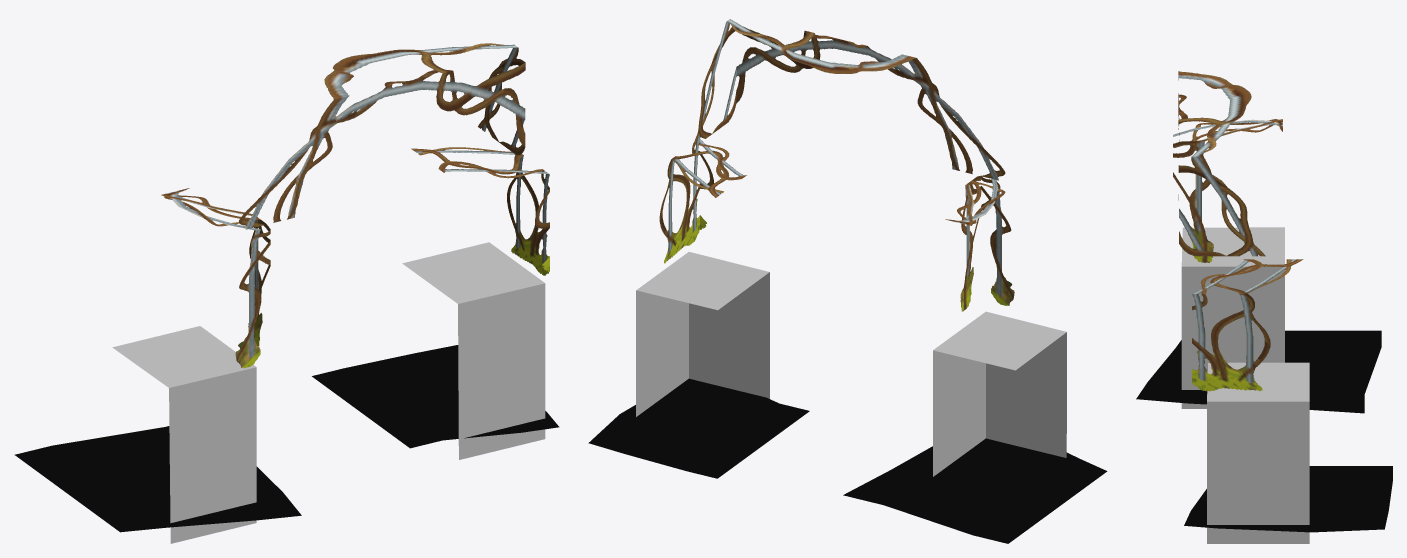
The model's file is K1_lvliba.FBX.
3 renders of one model, left to right at view 1: azimuth 30°, elevation 25°; view 2: azimuth 150°, elevation 25°; view 3: azimuth 270°, elevation 25°, orthographic. The views are drawn at different scales.
Visible parts, largest first — view 1: k1_oldcao577, k1_oldcao576, k1_lvliba002, k1_lvliba001, k1_oldcao571, k1_oldcao570, k1_oldcao572; view 2: k1_oldcao576, k1_oldcao577, k1_lvliba002, k1_lvliba001, k1_oldcao571, k1_oldcao570, k1_oldcao572; view 3: k1_oldcao577, k1_oldcao576, k1_lvliba002, k1_lvliba001, k1_oldcao570, k1_oldcao571, k1_oldcao572.
Part boxes in pixels (x1,y1,x2,y2): k1_oldcao577: (402, 242, 545, 459); k1_oldcao576: (112, 326, 256, 543); k1_lvliba002: (14, 426, 301, 532); k1_lvliba001: (312, 345, 559, 448); k1_oldcao571: (238, 43, 525, 229); k1_oldcao570: (411, 147, 549, 275); k1_oldcao572: (161, 188, 270, 368); k1_oldcao576: (933, 311, 1066, 476); k1_oldcao577: (636, 252, 769, 416); k1_lvliba002: (843, 438, 1107, 543); k1_lvliba001: (588, 378, 809, 478); k1_oldcao571: (692, 19, 1005, 180); k1_oldcao570: (659, 139, 746, 263); k1_oldcao572: (945, 176, 1014, 311); k1_oldcao577: (1207, 362, 1309, 543); k1_oldcao576: (1181, 227, 1284, 408); k1_lvliba002: (1136, 330, 1381, 413); k1_lvliba001: (1184, 466, 1392, 532); k1_oldcao570: (1192, 259, 1303, 391); k1_oldcao571: (1178, 71, 1265, 256); k1_oldcao572: (1173, 119, 1282, 262).
Bounding box in the file's own units: 4.65 × 3.99 × 2.5.
